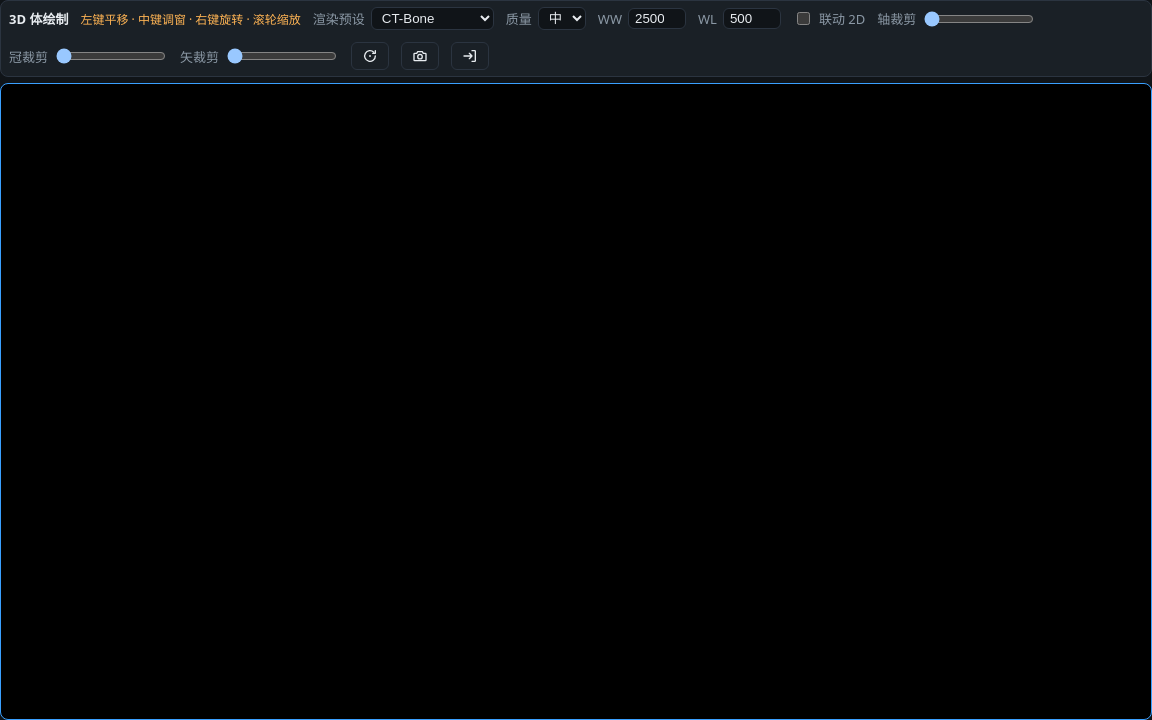
it: 渲染预设恢复默认窗宽窗位（M11-F5） › 切换预设后 WW/WL 重置为预设默认值（视口应用 + 面板输入框）
Expected: the text "3D 体绘制" is shown, [9,9,68,28]
Expected: the number field named "3D 窗宽" holds "2500", [628,8,686,29]
Select "MIP" in the dropdown named "3D 渲染预设" at [432, 18], box [371,7,494,30]
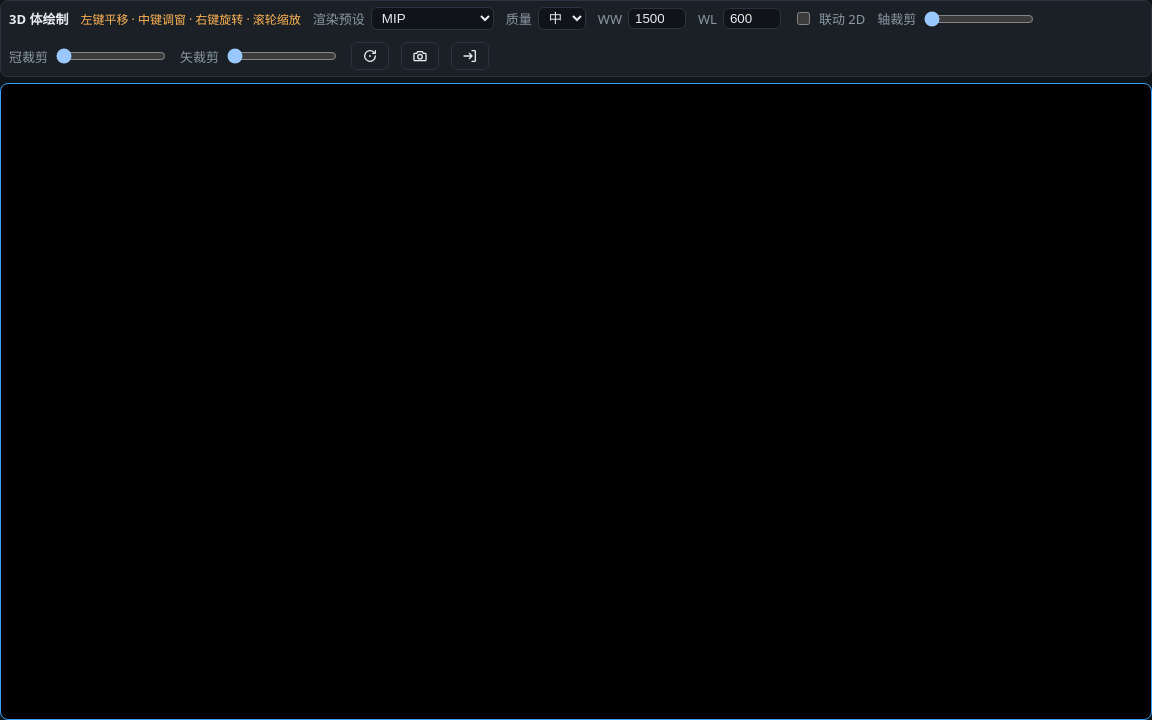
Expected: the number field named "3D 窗宽" holds "1500", [628,8,686,29]
Expected: the number field named "3D 窗位" holds "600", [723,8,781,29]
